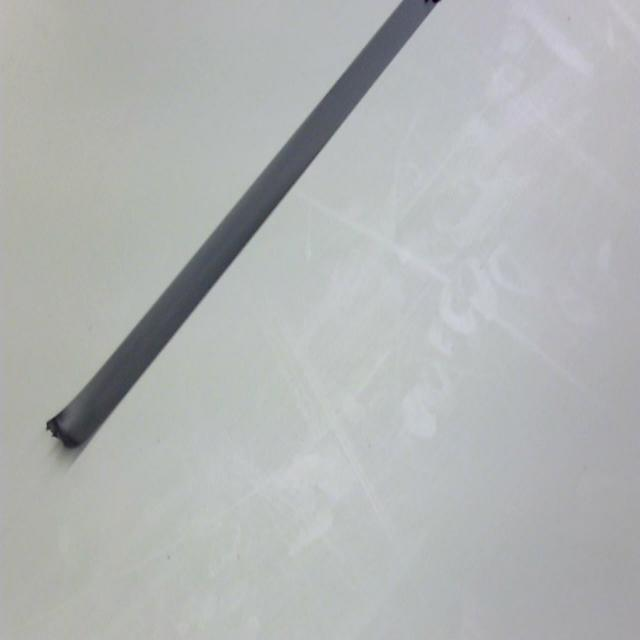tape: (21, 0, 459, 491)
